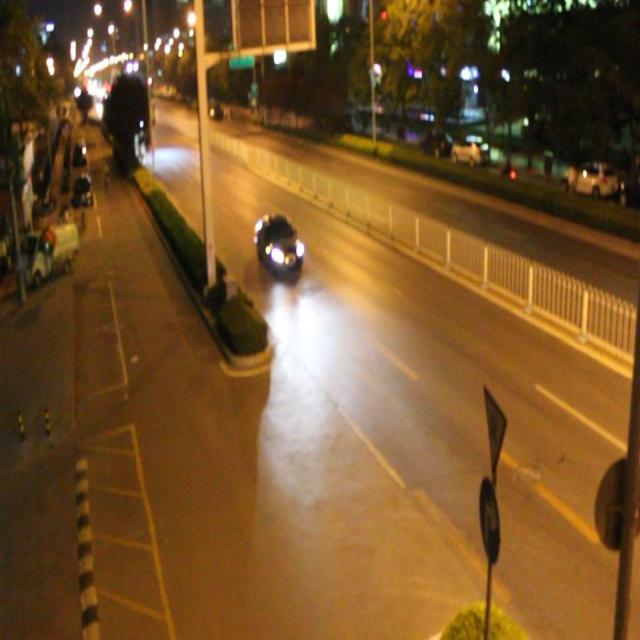car: (254, 213, 303, 276)
